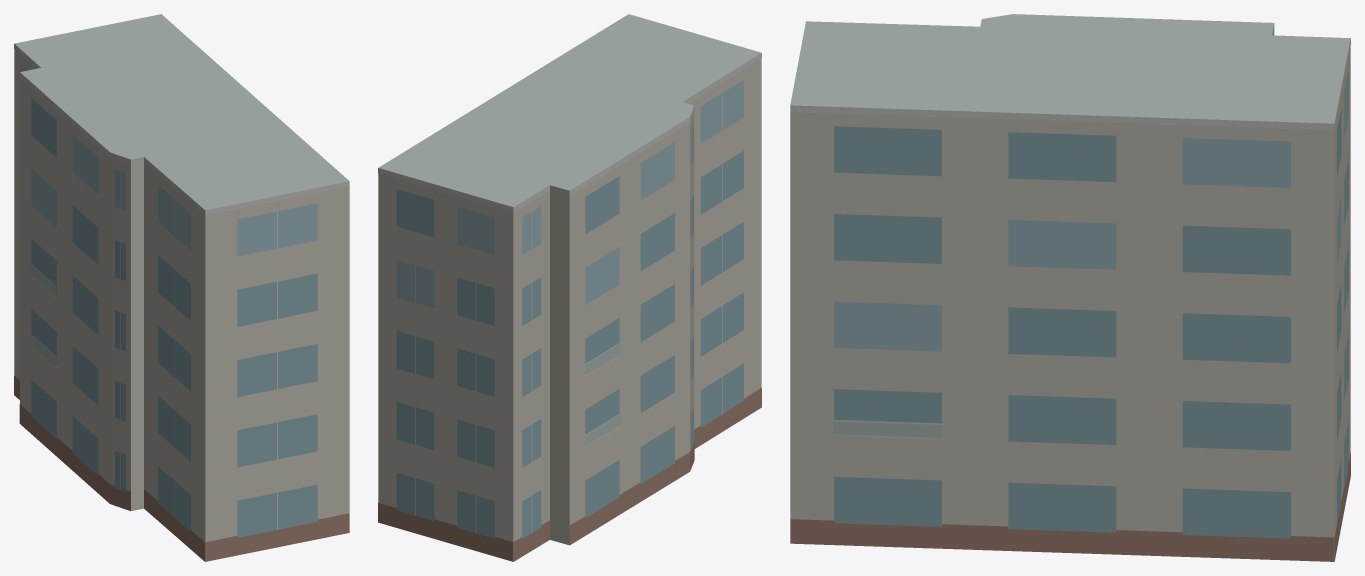
File: survey-upis-32874741.glb
The picture shows the model from 3 angles, left to right: view 1: azimuth 30°, elevation 25°; view 2: azimuth 150°, elevation 25°; view 3: azimuth 270°, elevation 25°; orthographic projection. The views are drawn at different scales.
Visible parts, largest first — view 1: survey-upis-32874741.tmp; view 2: survey-upis-32874741.tmp; view 3: survey-upis-32874741.tmp.
Part boxes in pixels (x1,y1,x2,y2): survey-upis-32874741.tmp: (14,14,349,561); survey-upis-32874741.tmp: (378,14,761,561); survey-upis-32874741.tmp: (790,14,1350,561).
Bounding box in the file's own units: 8.65 × 16.1 × 18.67.
